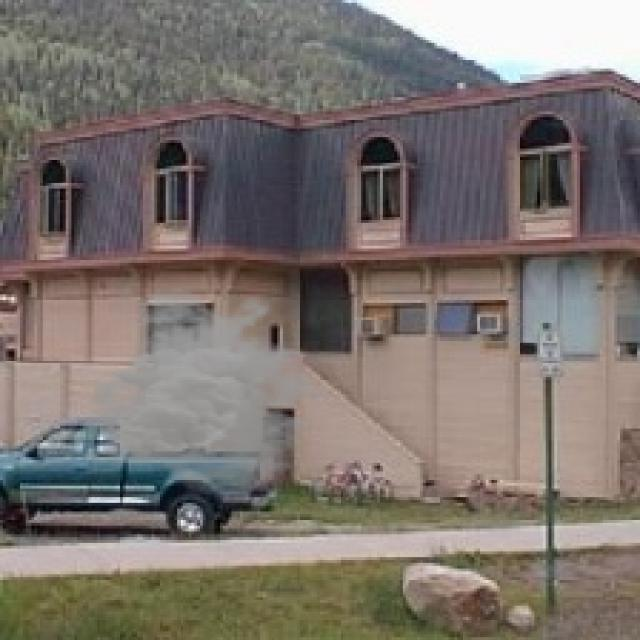Smoke: (77, 286, 340, 497)
